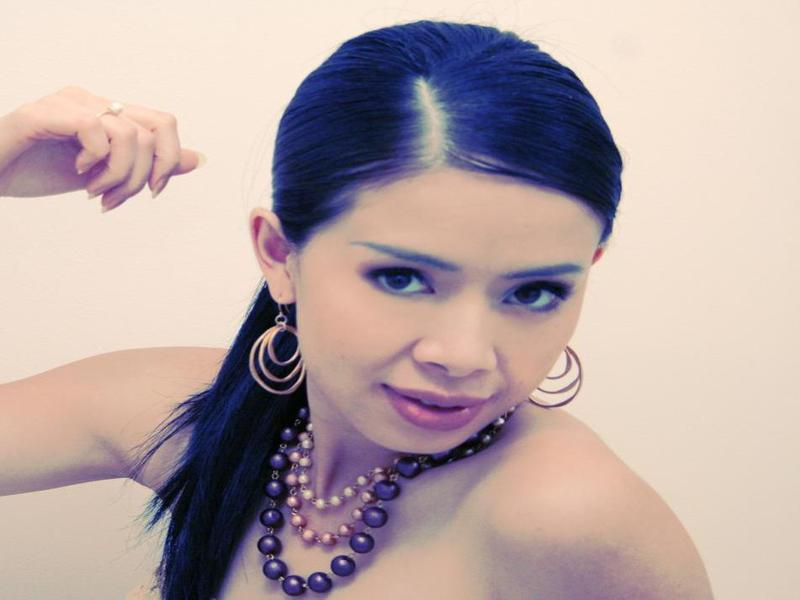person: (1, 20, 714, 594)
